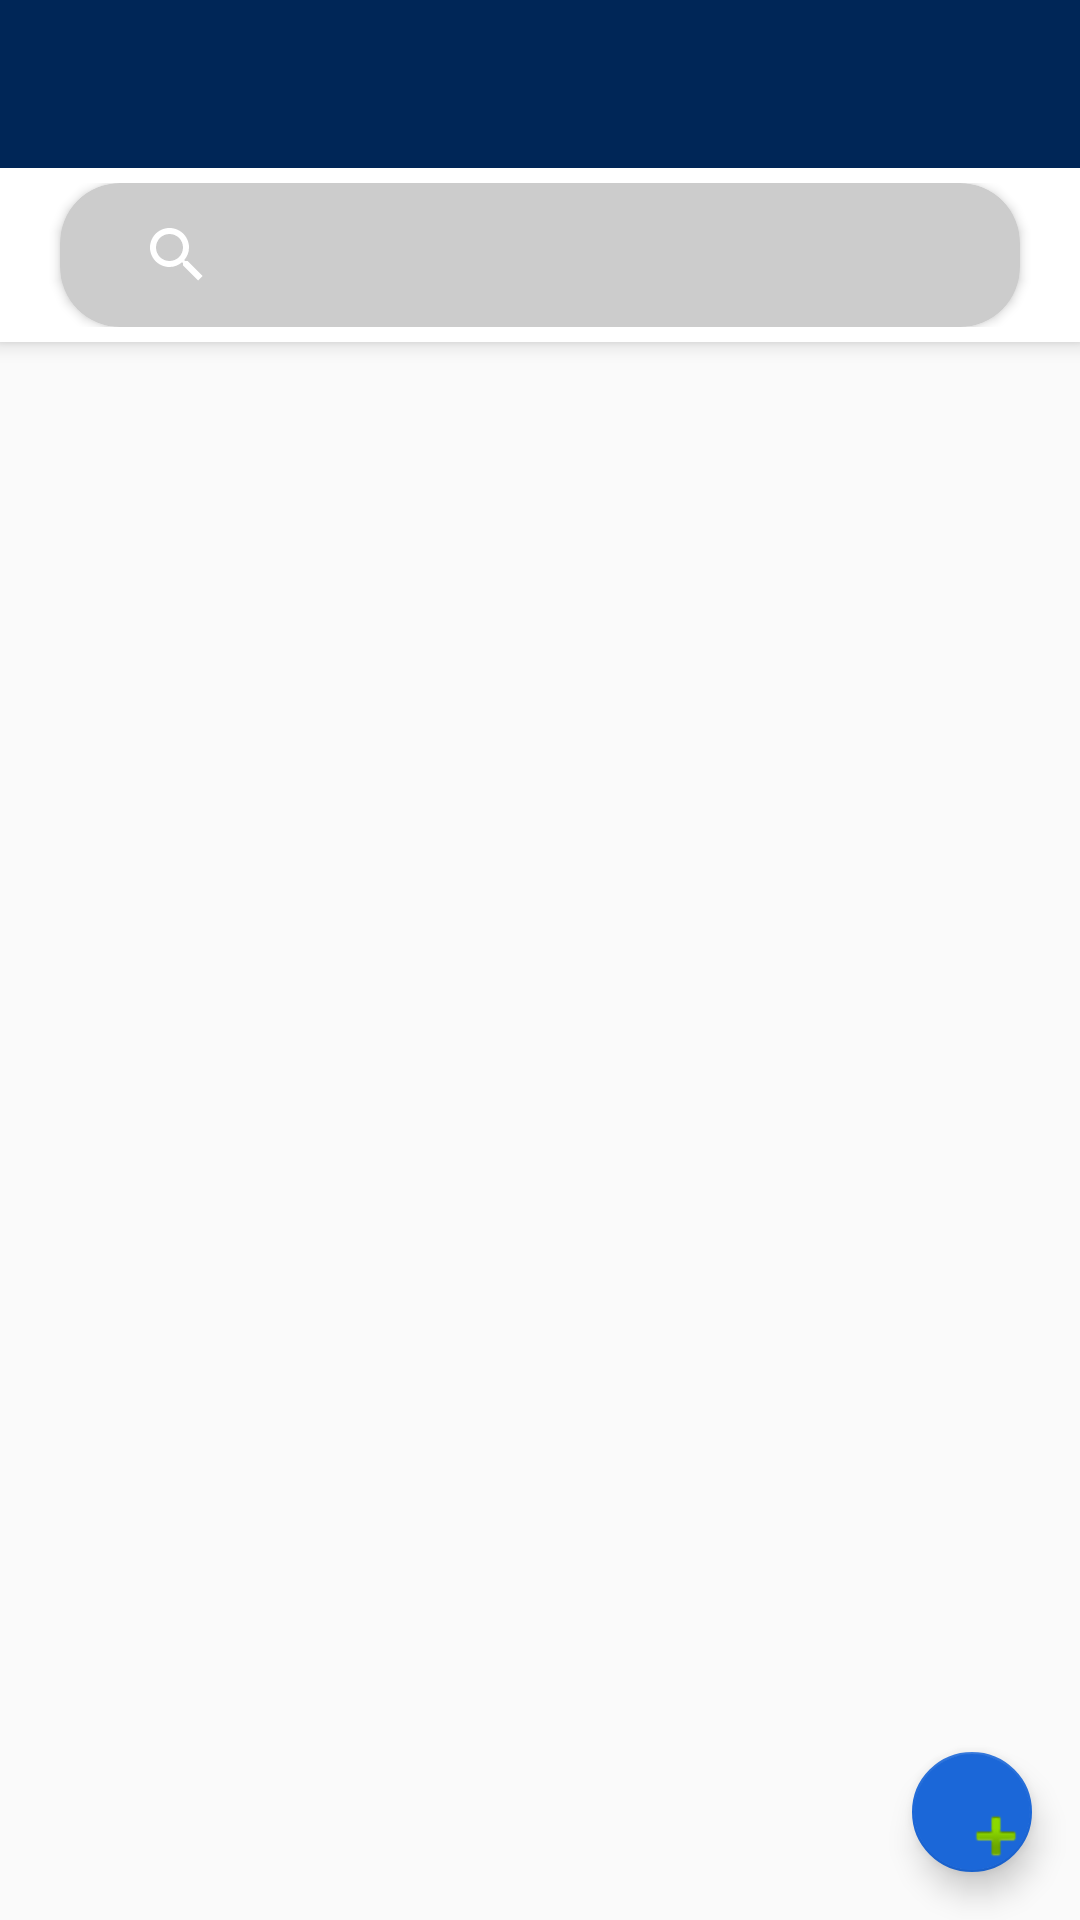

Where icons sit on this 1080*1920 app screen, as box(x1, y1, x2, y2):
add: box(912, 1752, 1032, 1872)
